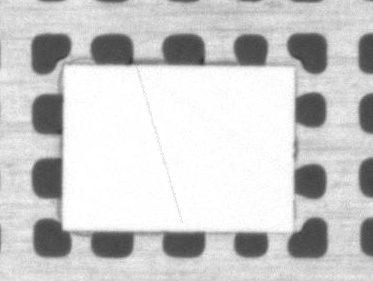DIE_CRACK: (182, 51, 242, 167)
